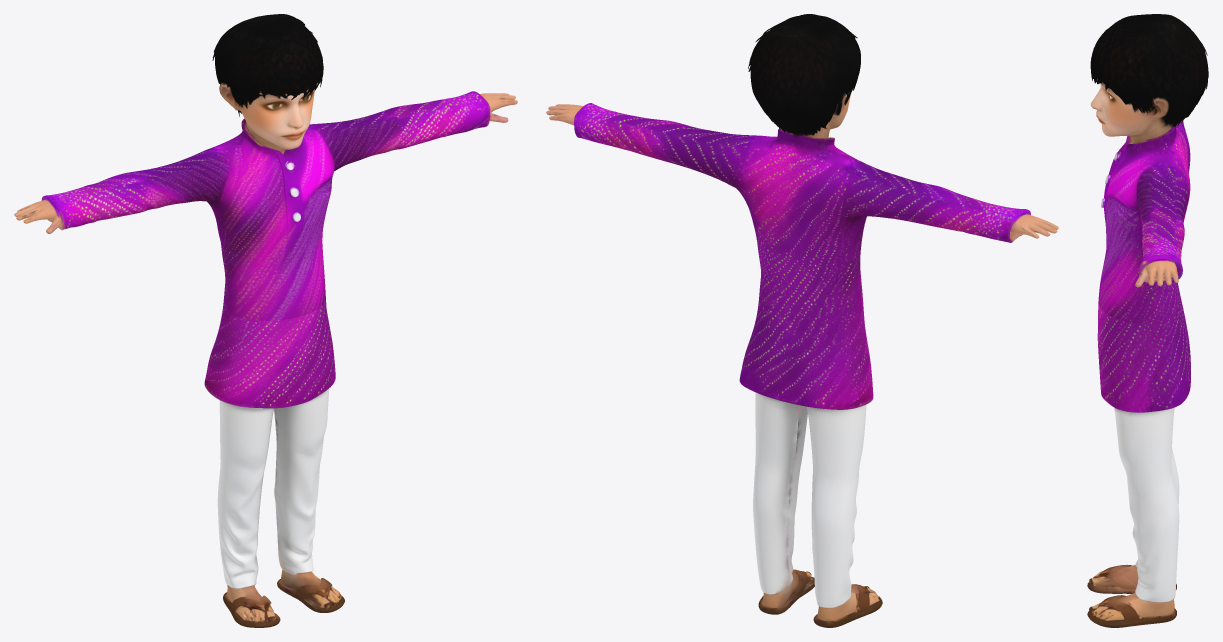
File: indian_kid_character_3d_model.glb
The picture shows the model from 3 angles, left to right: view 1: azimuth 30°, elevation 25°; view 2: azimuth 150°, elevation 25°; view 3: azimuth 270°, elevation 25°; orthographic projection.
Visible parts, largest first — view 1: Object_2; view 2: Object_2; view 3: Object_2.
Part boxes in pixels (x1,y1,x2,y2): Object_2: (14, 14, 517, 627); Object_2: (546, 14, 1058, 627); Object_2: (1087, 14, 1208, 627).
Bounding box in the file's own units: 1.04 × 1.15 × 0.2166.
Materials: 1 (1 with a texture image).
